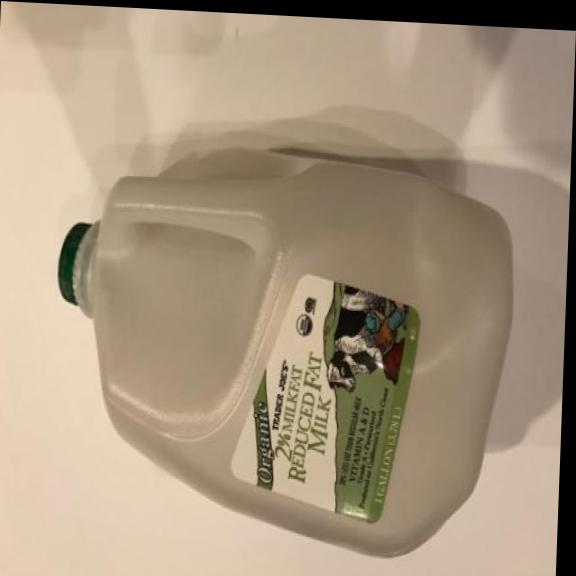Plastik: (47, 144, 520, 561)
